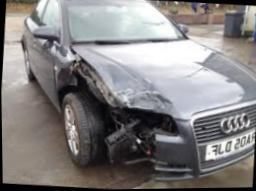Bonnet: (96, 67, 182, 115)
Bumper: (106, 122, 155, 178)
Fender: (75, 59, 117, 111)
Light: (111, 107, 176, 136)
